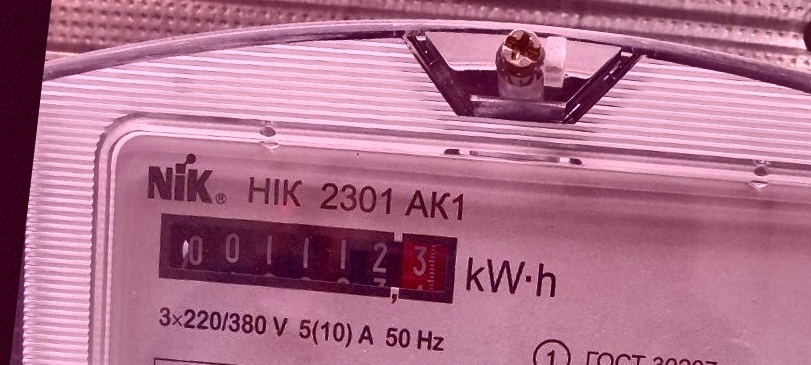0: (218, 227, 244, 267), (182, 230, 208, 267)
1: (257, 229, 279, 268), (295, 232, 313, 271), (333, 234, 351, 273)
2: (366, 238, 392, 276)
3: (407, 242, 429, 278)
screen: (146, 199, 466, 315)
